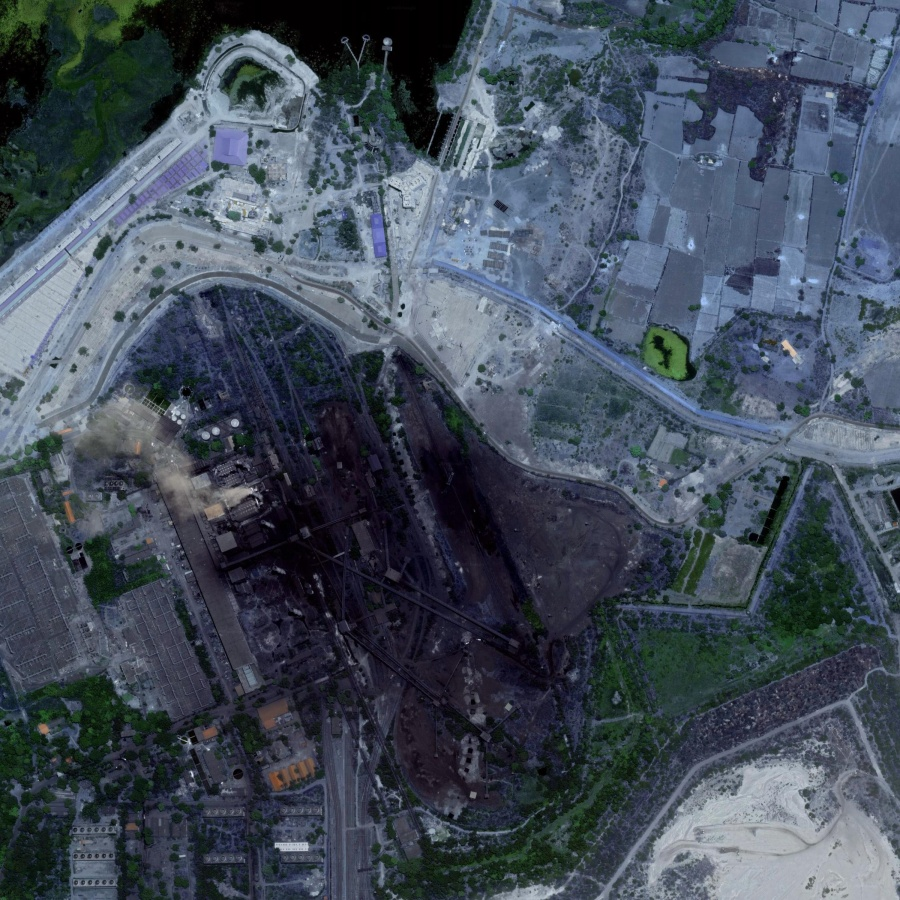PowerPlant: (94, 271, 585, 810)
